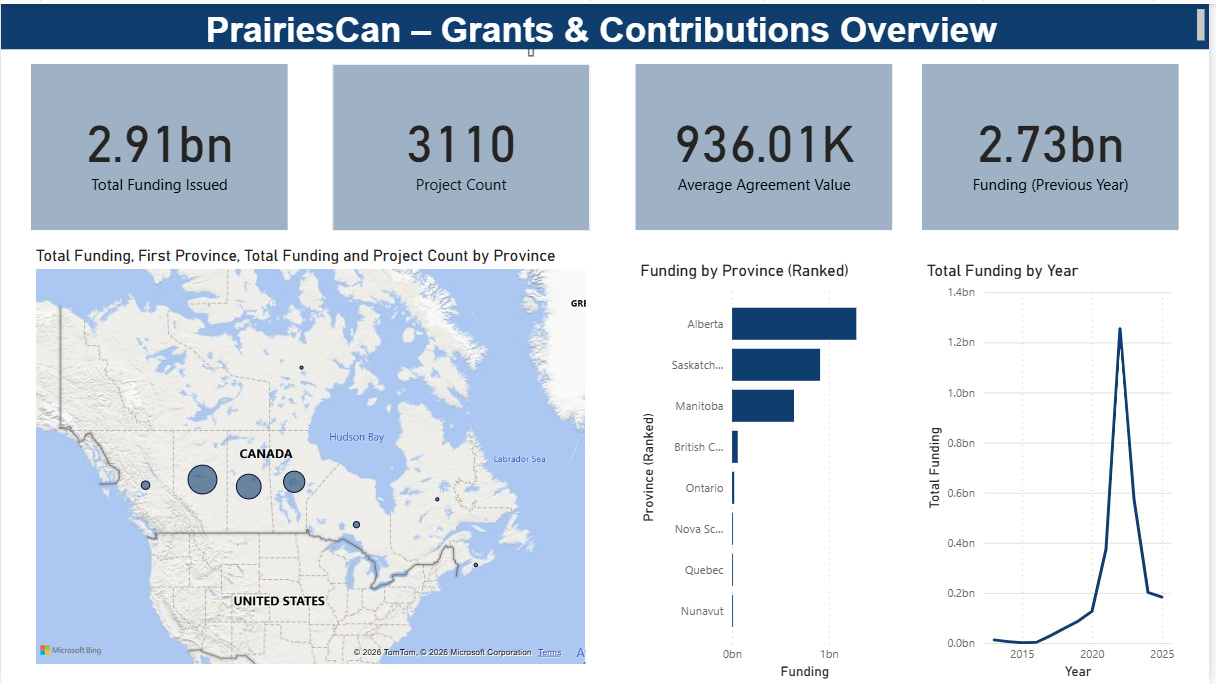

The page's visual inventory and layout, read from the dashboard file:
{"tool":"powerbi","page":{"name":"Page 1","canvas":[1280,720],"ordinal":0},"visuals":[{"type":"card","title":"Cardp","fields":{"Values":["GrantsFact.Project Count"]},"box":[352,64,272,176],"z":500},{"type":"card","fields":{"Values":["GrantsFact.Total Funding"]},"box":[32,64,272,176],"z":1000},{"type":"card","fields":{"Values":["GrantsFact.Funding YoY"]},"box":[976,64,272,176],"z":2000},{"type":"card","fields":{"Values":["GrantsFact.Average Funding"]},"box":[672,64,272,176],"z":3000},{"type":"map","fields":{"Category":["GrantsFact.Province"],"Size":["GrantsFact.Total Funding"]},"box":[32,256,592,448],"z":4000},{"type":"clusteredBarChart","fields":{"Category":["GrantsFact.Province"],"Y":["GrantsFact.Total Funding"]},"box":[672,272,272,448],"z":5000},{"type":"textbox","box":[0,0,1280,48],"z":7000},{"type":"lineChart","fields":{"Category":["GrantsFact.Date.Variation.Date Hierarchy.Year","GrantsFact.Date.Variation.Date Hierarchy.Quarter","GrantsFact.Date.Variation.Date Hierarchy.Month","GrantsFact.Date.Variation.Date Hierarchy.Day"],"Y":["GrantsFact.Total Funding"]},"box":[976,272,272,448],"z":7001}]}

Visuals, with their boxes in screenshot pixels (x1, y1, x2, y2), scaled from the page's 1280x720 canvas onto the 1216x684 screenshot:
"Cardp" card: (334,61,593,228)
card - GrantsFact.Total Funding: (30,61,289,228)
card - GrantsFact.Funding YoY: (927,61,1186,228)
card - GrantsFact.Average Funding: (638,61,897,228)
map - GrantsFact.Province x GrantsFact.Total Funding: (30,243,593,669)
clusteredBarChart - GrantsFact.Province x GrantsFact.Total Funding: (638,258,897,683)
textbox: (0,0,1215,46)
lineChart - GrantsFact.Date.Variation.Date Hierarchy.Year x GrantsFact.Date.Variation.Date Hierarchy.Quarter: (927,258,1186,683)
